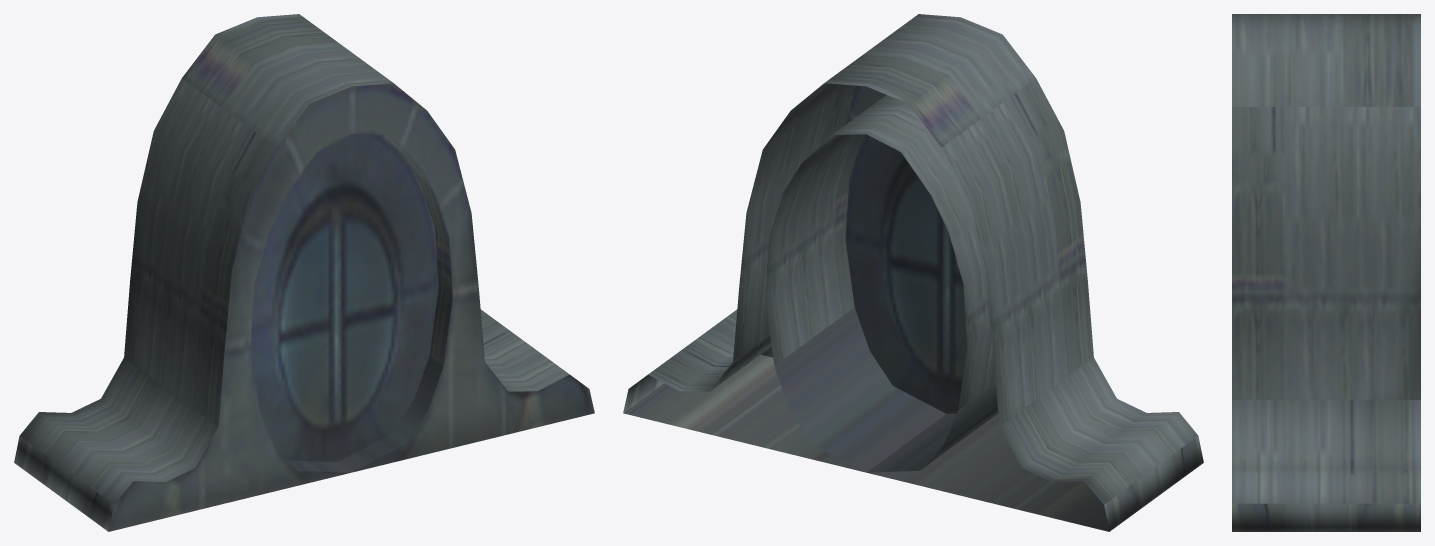
Rendered from comble_2.obj.
3 views of the same model, side by side, from view 1: azimuth 30°, elevation 25°; view 2: azimuth 150°, elevation 25°; view 3: azimuth 270°, elevation 25° (orthographic).
Visible parts, largest first — view 1: polySurface6; view 2: polySurface6; view 3: polySurface6.
Boxes of the visible parts, bbox=[...] form: polySurface6: bbox=[14, 14, 594, 531]; polySurface6: bbox=[623, 14, 1203, 531]; polySurface6: bbox=[1232, 14, 1420, 531].
Bounding box in the file's own units: 3.56 × 2.7 × 1.2.
Materials: 1 (1 with a texture image).
